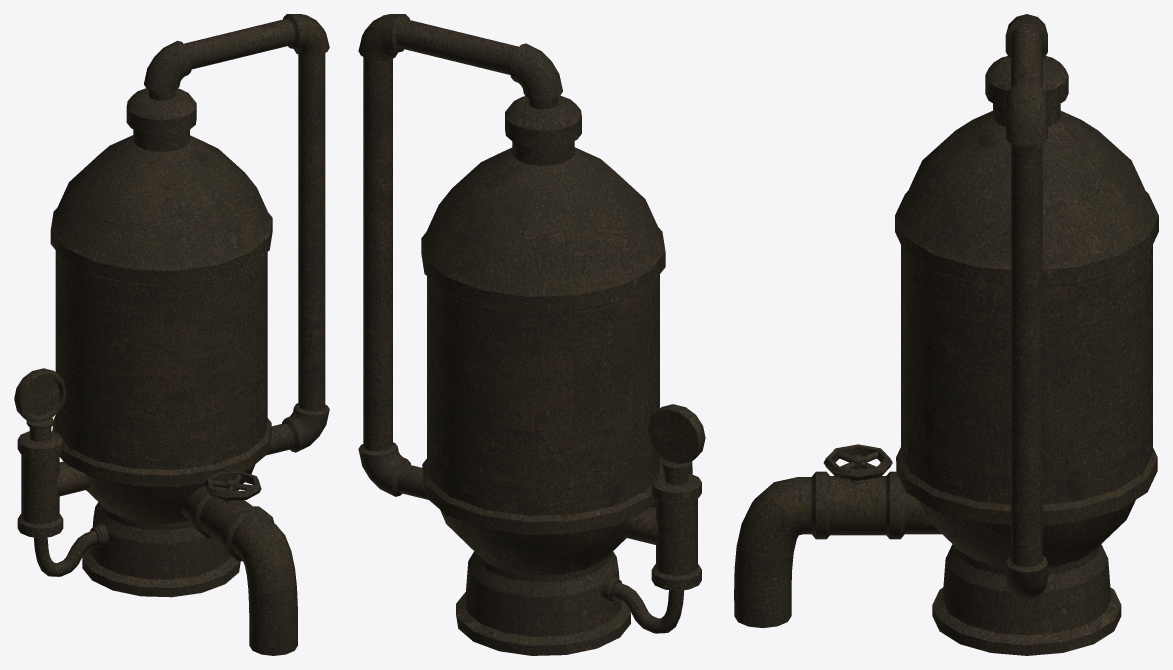
Rendered from distillery_mx_1.glb.
3 renders of one model, left to right at view 1: azimuth 30°, elevation 25°; view 2: azimuth 150°, elevation 25°; view 3: azimuth 270°, elevation 25°, orthographic. The views are drawn at different scales.
Visible parts, largest first — view 1: distillery_mx_1; view 2: distillery_mx_1; view 3: distillery_mx_1.
Part boxes in pixels (x1,y1,x2,y2): distillery_mx_1: [14, 14, 329, 655]; distillery_mx_1: [358, 14, 705, 655]; distillery_mx_1: [734, 14, 1158, 655].
Bounding box in the file's own units: 2.22 × 3.52 × 2.22.
Materials: 1 (1 with a texture image).
